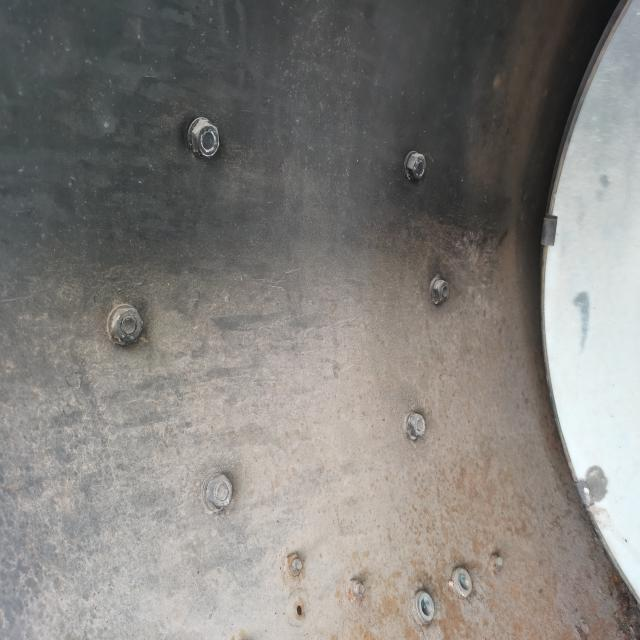bolt nut: (189, 116, 221, 161), (109, 306, 144, 345), (206, 471, 233, 512), (404, 408, 426, 441), (406, 150, 427, 182), (430, 275, 450, 304), (282, 552, 303, 579), (345, 576, 365, 604)
